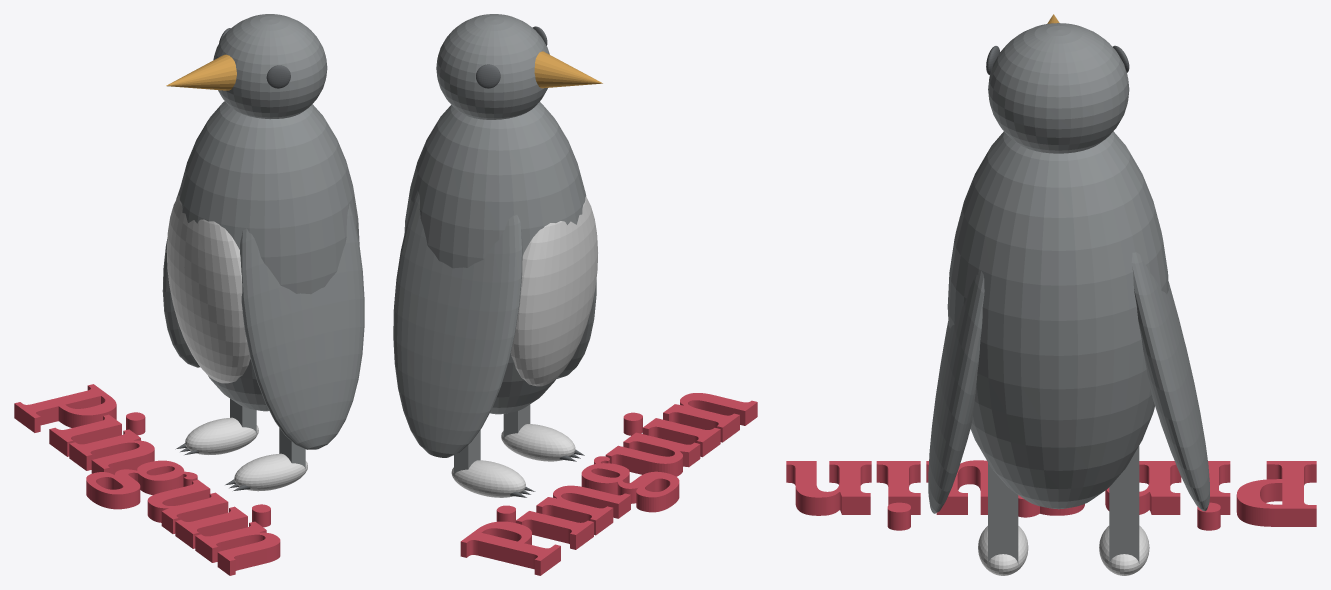
Rendered from asset.glb.
3 views of the same model, side by side, from view 1: azimuth 30°, elevation 25°; view 2: azimuth 150°, elevation 25°; view 3: azimuth 270°, elevation 25° (orthographic). The views are drawn at different scales.
Parts seen in each view (by area): view 1: Mesh_Mesh_head_geo.001_lambert2SG.001; view 2: Mesh_Mesh_head_geo.001_lambert2SG.001; view 3: Mesh_Mesh_head_geo.001_lambert2SG.001.
Part boxes in pixels (bbox=[...]): Mesh_Mesh_head_geo.001_lambert2SG.001: bbox=[14, 14, 364, 575]; Mesh_Mesh_head_geo.001_lambert2SG.001: bbox=[393, 14, 757, 575]; Mesh_Mesh_head_geo.001_lambert2SG.001: bbox=[786, 14, 1316, 575].
Bounding box in the file's own units: 36 × 60 × 52.57.
